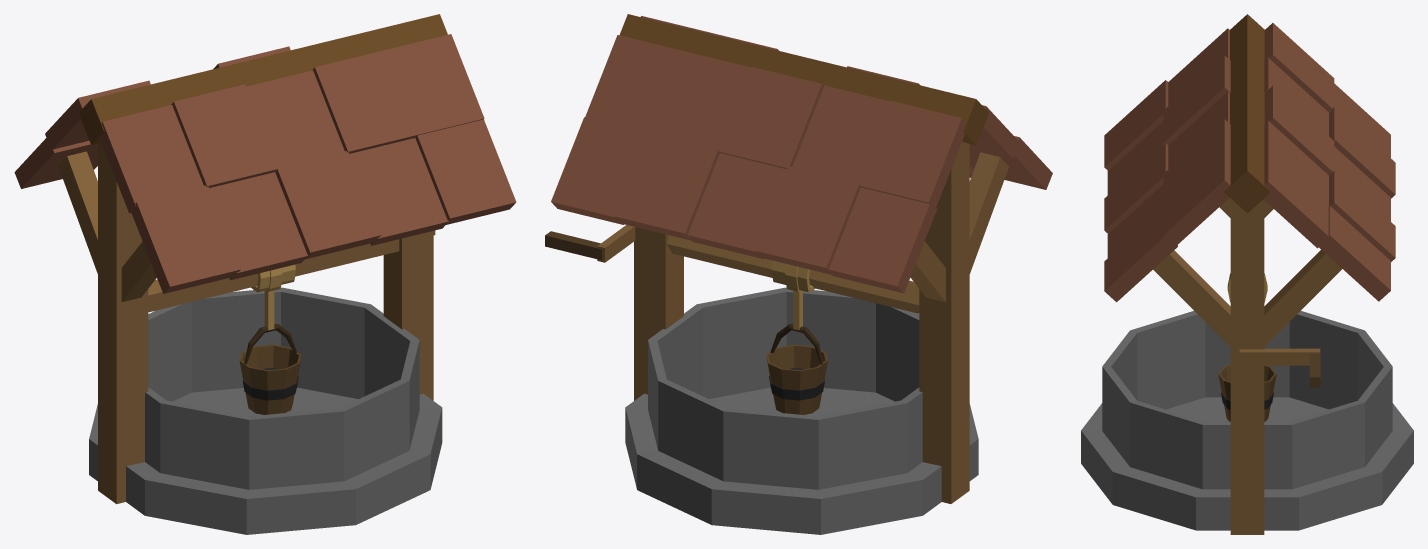
File: Waterput.fbx
3 views of the same model, side by side, from view 1: azimuth 30°, elevation 25°; view 2: azimuth 150°, elevation 25°; view 3: azimuth 270°, elevation 25° (orthographic). The views are drawn at different scales.
Visible parts, largest first — view 1: structuur, touw met emmer, balk; view 2: structuur, touw met emmer, balk, hendel2, hendel; view 3: structuur, hendel, touw met emmer, hendel2.
Boxes of the visible parts, box(x1,y1,x2,y2) form: structuur: box(14, 14, 516, 534); touw met emmer: box(239, 264, 301, 414); balk: box(148, 239, 399, 312); structuur: box(551, 14, 1052, 534); touw met emmer: box(766, 260, 827, 414); balk: box(667, 235, 919, 313); hendel2: box(545, 231, 602, 260); hendel: box(597, 225, 635, 262); structuur: box(1081, 14, 1413, 534); hendel: box(1239, 348, 1320, 365); touw met emmer: box(1218, 273, 1276, 421); hendel2: box(1309, 352, 1320, 387).
Bounding box in the file's own units: 225 × 221 × 180.
